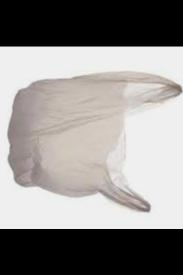Plastic: (0, 64, 182, 228)
